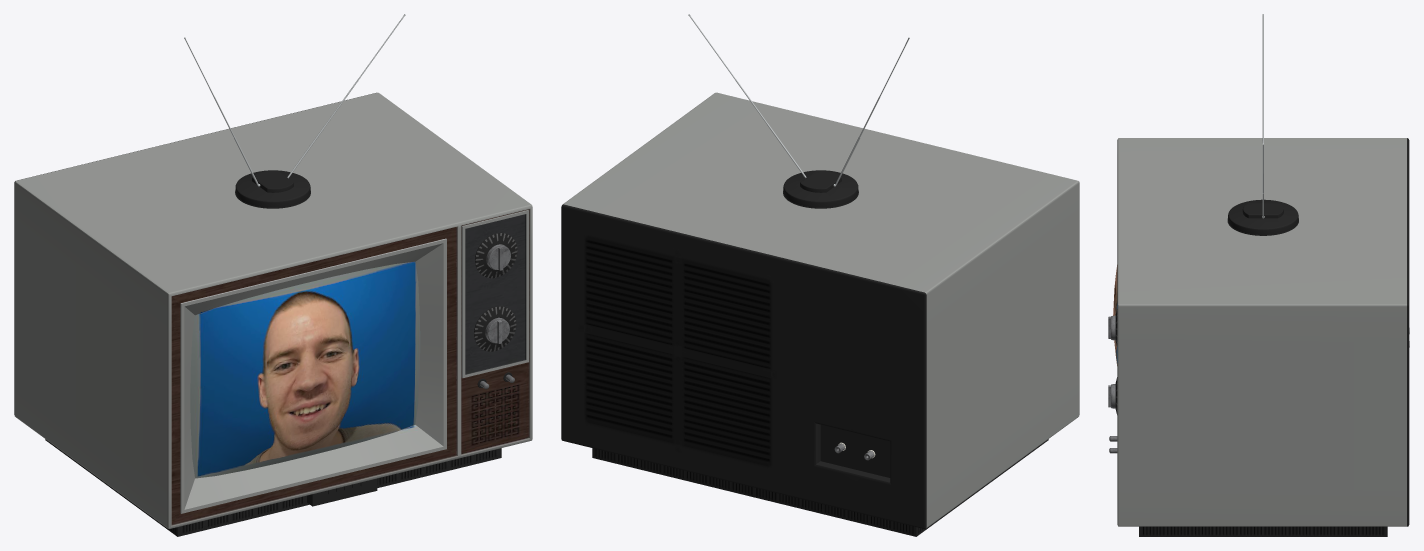
File: headshot.gltf
3 views of the same model, side by side, from view 1: azimuth 30°, elevation 25°; view 2: azimuth 150°, elevation 25°; view 3: azimuth 270°, elevation 25° (orthographic). The views are drawn at different scales.
Parts seen in each view (by area): view 1: classic_television_n3d; view 2: classic_television_n3d; view 3: classic_television_n3d.
Part boxes in pixels (x1,y1,x2,y2): classic_television_n3d: [14, 14, 532, 536]; classic_television_n3d: [561, 14, 1079, 536]; classic_television_n3d: [1108, 14, 1409, 536].
Bounding box in the file's own units: 0.67 × 0.7601 × 0.5092.
1 material, 1 textured.
